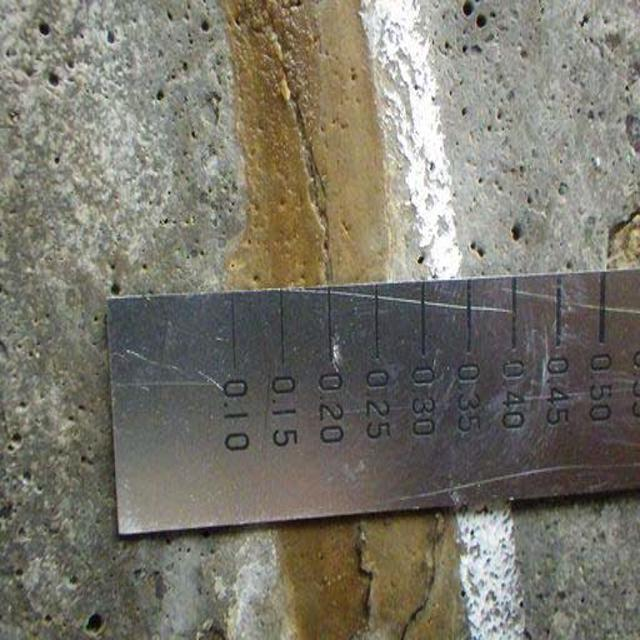crack: (262, 30, 342, 286), (347, 524, 449, 639)
